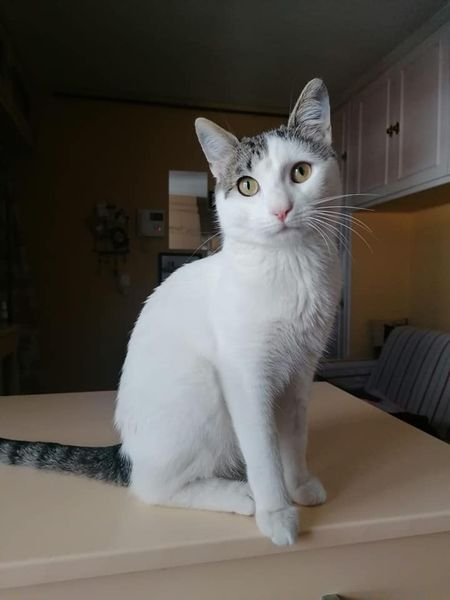cat: (9, 71, 367, 555)
